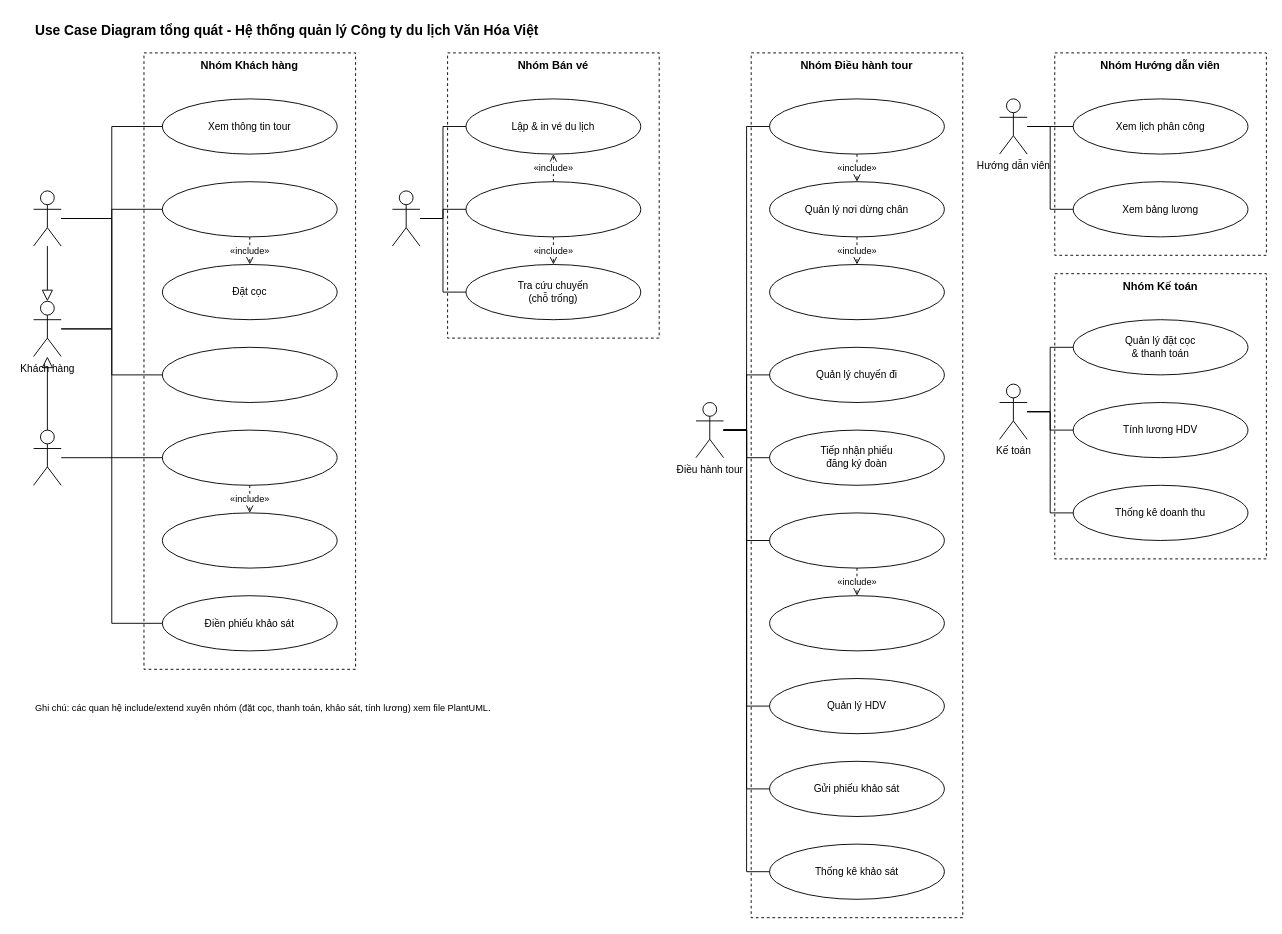
This 1282x934 diagram has some shape labels left out. Each missing label, with the centre of its shape:
"Khách lẻ (< 12 người)" belongs at (47,457).
"Khách đoàn (>= 12 người)" belongs at (47,218).
"Kiểm tra trùng lịch HDV" belongs at (856,623).
"Nhân viên bán vé" belongs at (405,218).
"Phân công HDV" belongs at (856,540).
"Quản lý tour" belongs at (856,126).
"Quản lý điểm tham quan" belongs at (856,292).
"Thanh toán sau tour" belongs at (249,374).
"Thanh toán vé ngay" belongs at (249,540).
"Tiếp nhận đăng ký khách lẻ" belongs at (553,209).
"Đăng ký chuyến lẻ" belongs at (249,457).
"Đăng ký tour đoàn" belongs at (249,209).
